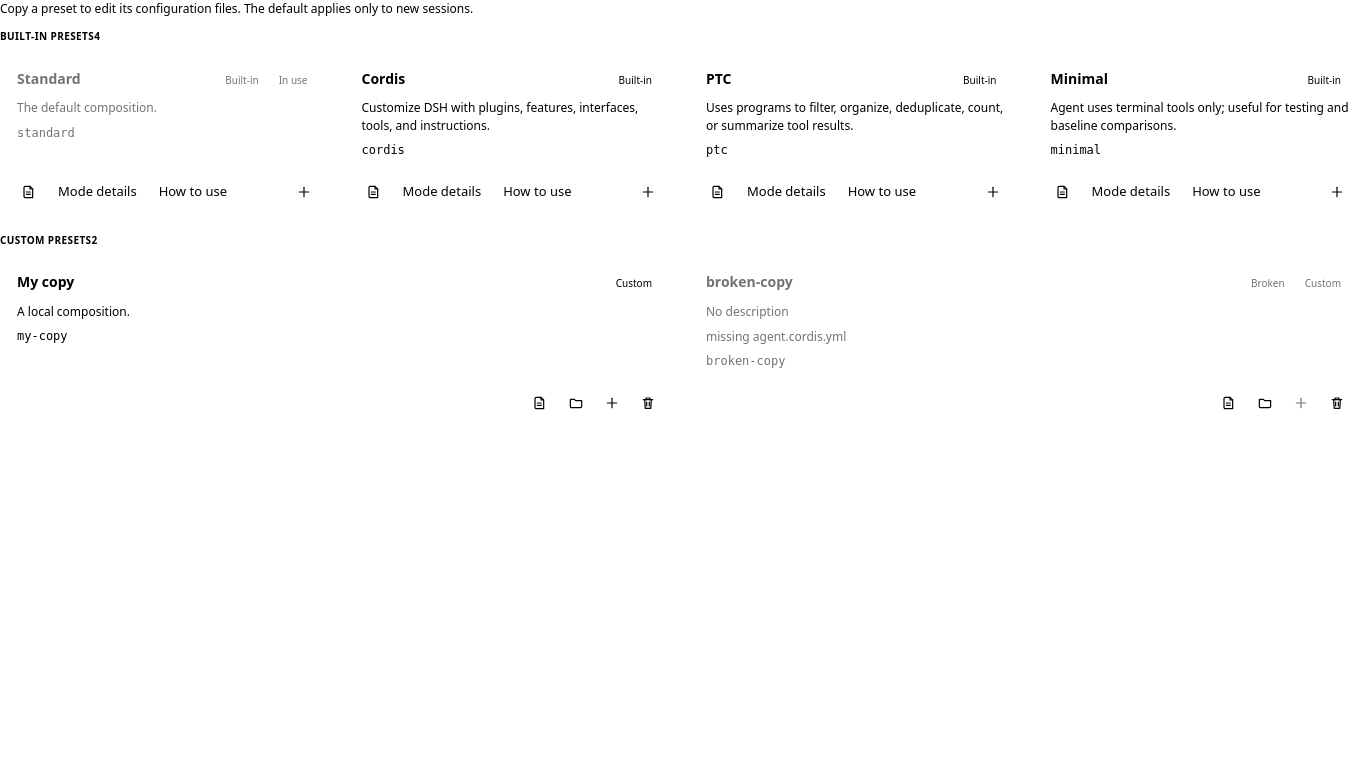
Test: PresetManager composition viewer › opens localized mode explanations and use guidance without changing the default
The width and height of the screenshot is (1366, 768).
Expected: the text "Built-in presets" is shown, [0, 29, 94, 43]
Click the button with aria-label "Mode details: Standard".
click(97, 192)  # box [49, 177, 146, 206]
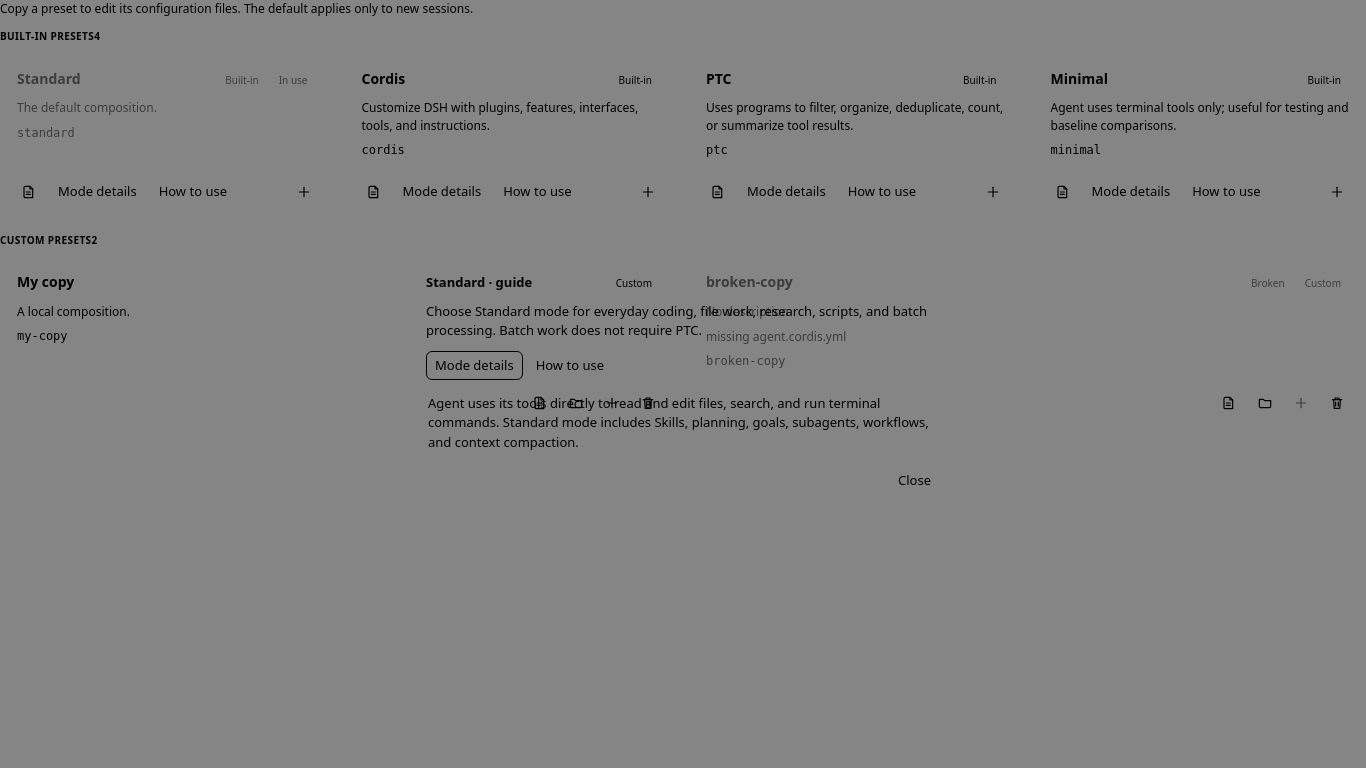
Expected: the text "Choose Standard mode" is shown, [426, 302, 927, 339]
Click the button "How to use".
click(570, 365)  # box [527, 351, 613, 380]
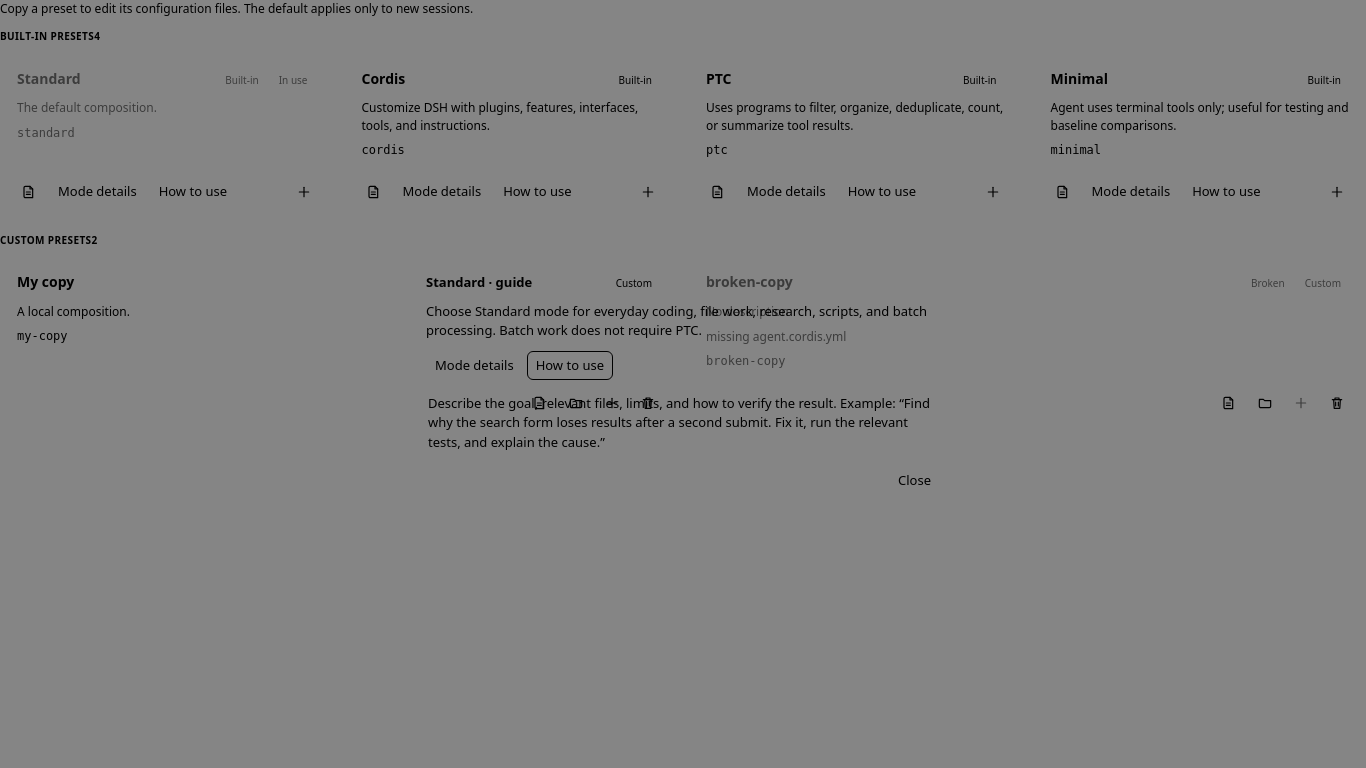
Expected: the text "search form loses results" is shown, [428, 394, 930, 451]
Click the button "Close".
click(914, 481)  # box [889, 466, 940, 495]
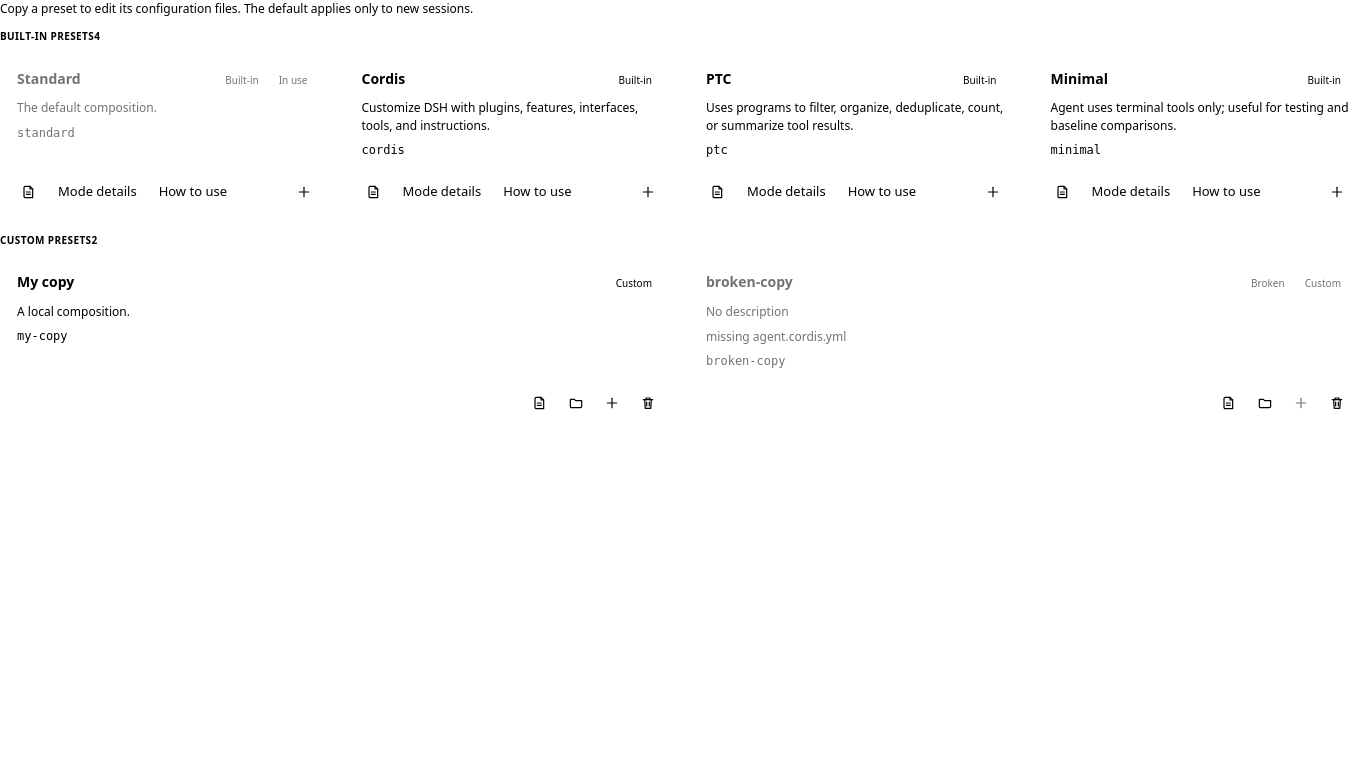
Expected: the heading "Standard · guide" is gone
